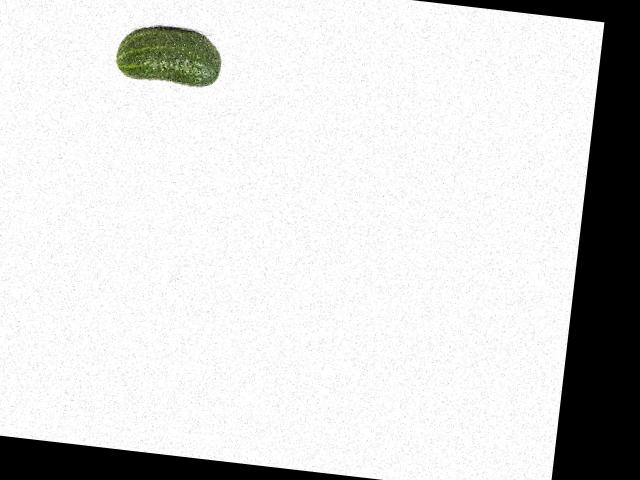cucumber: (114, 21, 225, 87)
